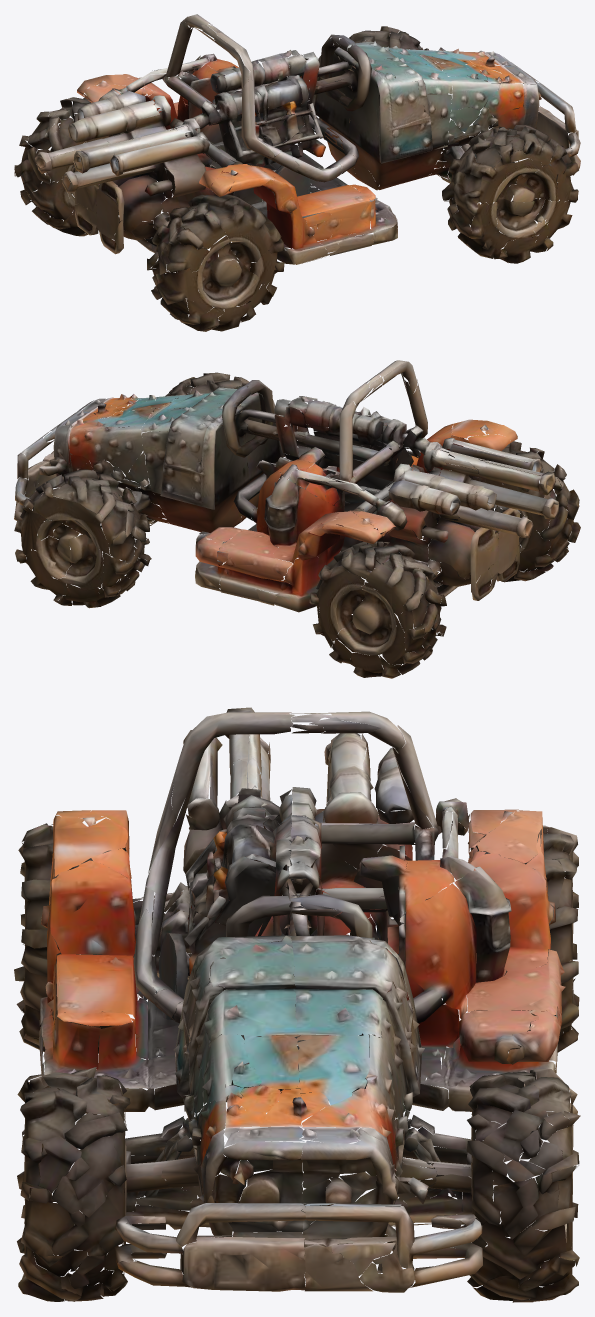
File: scrapper.glb
3 renders of one model, top to bottom at view 1: azimuth 30°, elevation 25°; view 2: azimuth 150°, elevation 25°; view 3: azimuth 270°, elevation 25°, orthographic. The views are drawn at different scales.
Visible parts, largest first — view 1: tripo_node_c569b4c4-32ab-4de5-9014-8e494fe37c2b; view 2: tripo_node_c569b4c4-32ab-4de5-9014-8e494fe37c2b; view 3: tripo_node_c569b4c4-32ab-4de5-9014-8e494fe37c2b.
Boxes of the visible parts, box(x1,y1,x2,y2) form: tripo_node_c569b4c4-32ab-4de5-9014-8e494fe37c2b: box(14, 14, 580, 331); tripo_node_c569b4c4-32ab-4de5-9014-8e494fe37c2b: box(14, 360, 580, 678); tripo_node_c569b4c4-32ab-4de5-9014-8e494fe37c2b: box(14, 707, 580, 1302).
Size of the model in its own units: 1 by 0.4492 by 0.588.
Materials: 1 (1 with a texture image).
